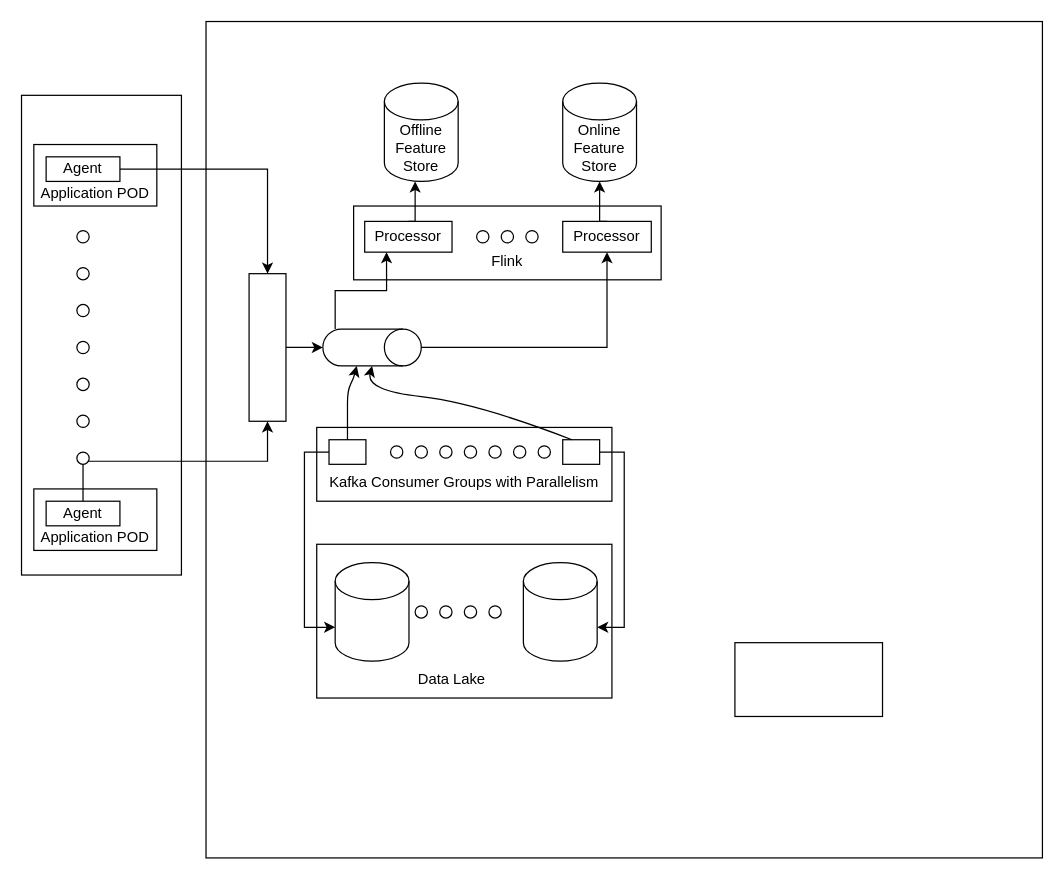
This 1064x879 diagram has some shape labels left out. Here are the shapes that lost their labels. From the top down, the centre of each, then its label:
the point at 267,346: End Point
the point at 371,347: Kafka
the point at 808,678: Airflow
